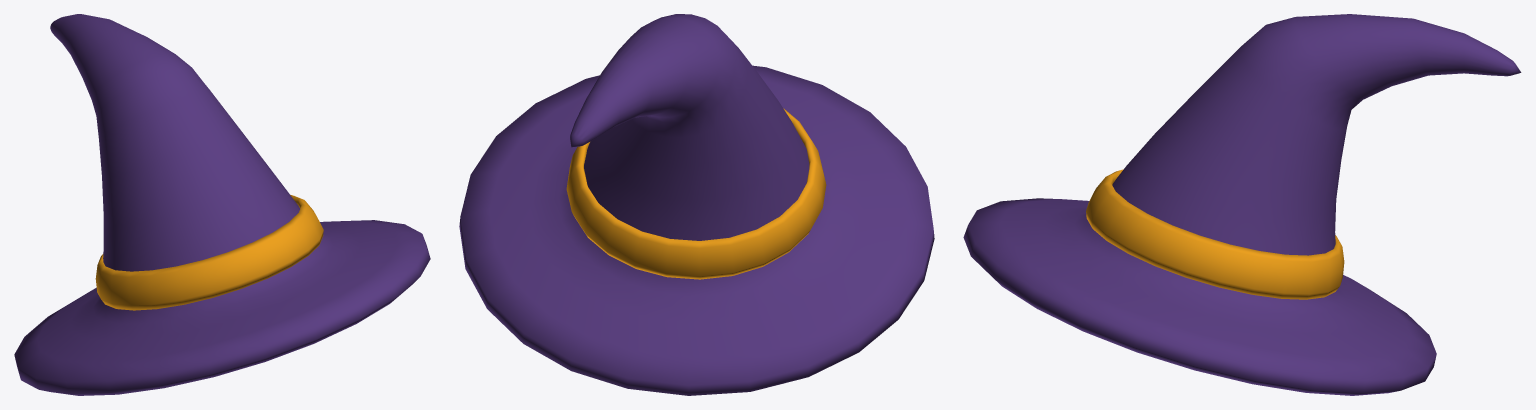
File: witch-hat.glb
The picture shows the model from 3 angles, left to right: view 1: azimuth 30°, elevation 25°; view 2: azimuth 150°, elevation 25°; view 3: azimuth 270°, elevation 25°; orthographic projection. The views are drawn at different scales.
Visible parts, largest first — view 1: hat; view 2: hat; view 3: hat.
Boxes of the visible parts, x1=… form: hat: x1=14, y1=14, x2=430, y2=395; hat: x1=459, y1=14, x2=934, y2=395; hat: x1=963, y1=14, x2=1521, y2=395.
Bounding box in the file's own units: 4.04 × 3.13 × 4.66.
